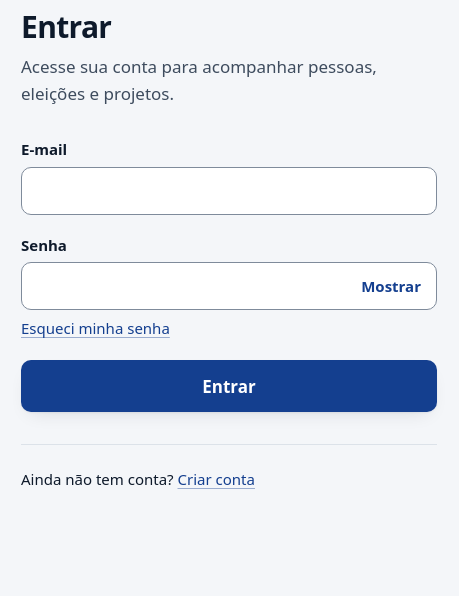
Scenario: LoginPage › avisa sobre bloqueio por excesso de tentativas
This screenshot has width=459, height=596.
Type "eleitora@example.com" into the field labelled "E-mail".
click(229, 191); type("eleitora@example.com")  # box x1=21 y1=167 x2=437 y2=215
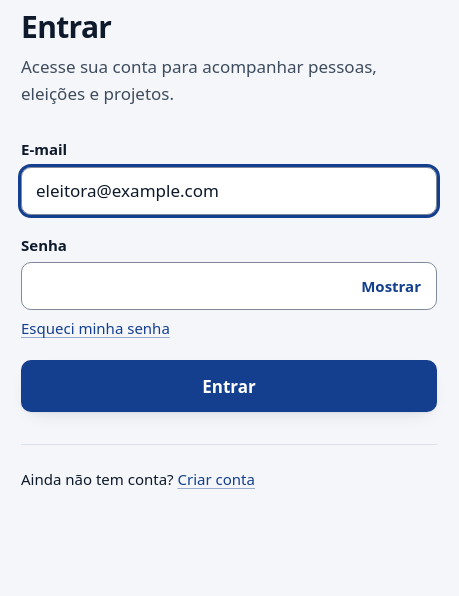
Type "x" into the password field labelled "Senha".
click(229, 286); type("x")  # box x1=21 y1=262 x2=437 y2=310
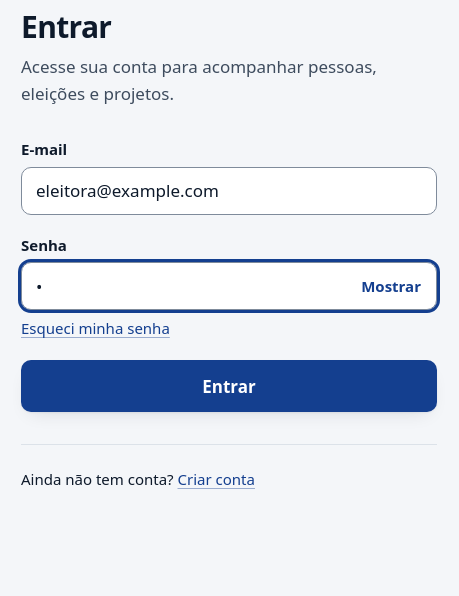
Click the button "Entrar".
click(229, 386)  # box x1=21 y1=360 x2=437 y2=412
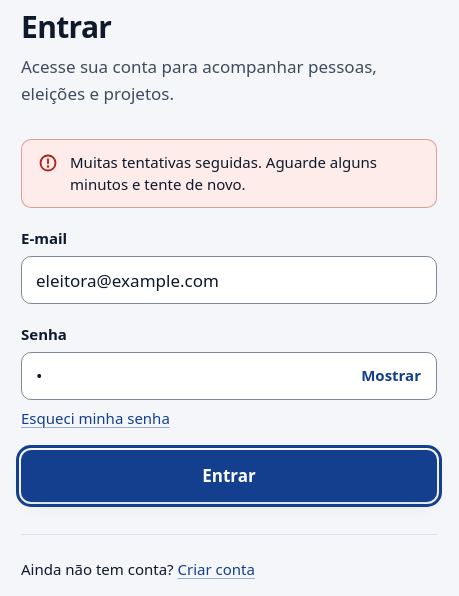
Check: the message shows "Muitas tentativas", box x1=70 y1=152 x2=377 y2=194
